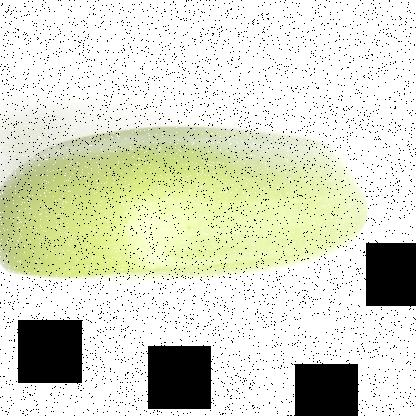freshunripe: (0, 109, 376, 297)
